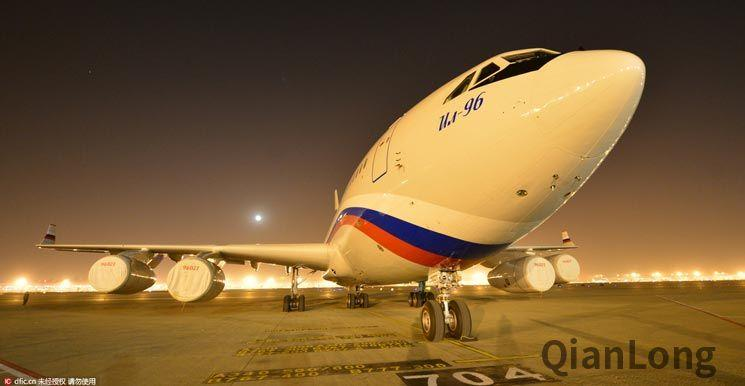airplane: (32, 44, 656, 325)
